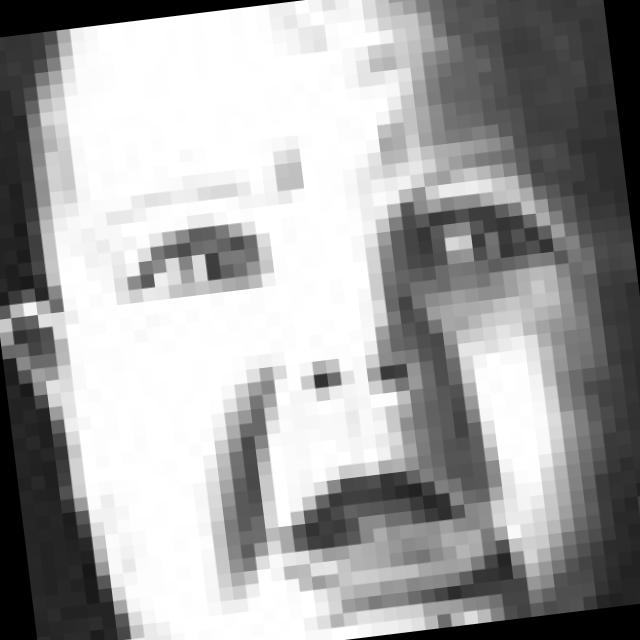fear: (93, 127, 614, 640)
